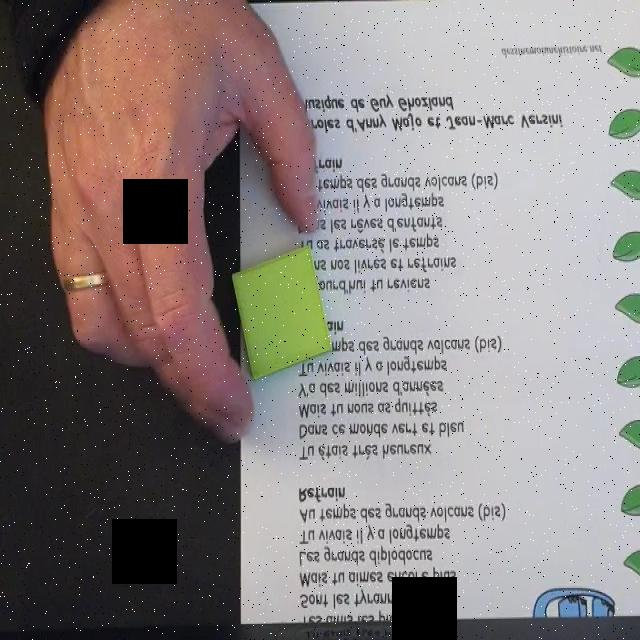square: (232, 247, 331, 378)
